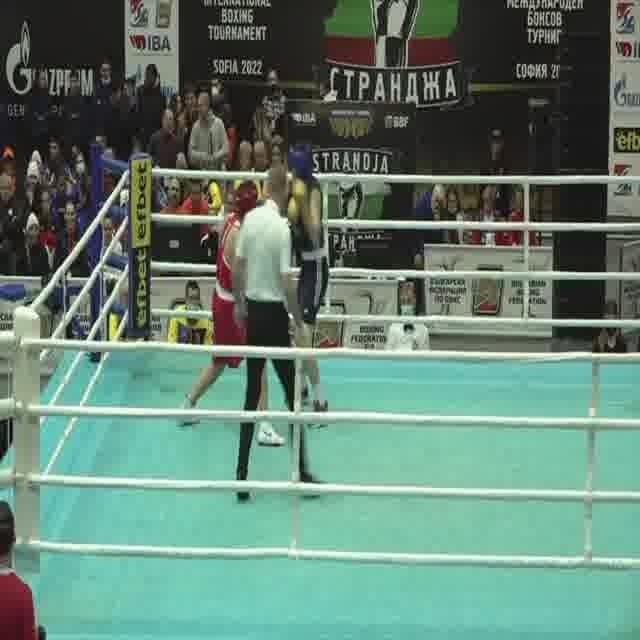blue-player: (281, 146, 330, 434)
red-player: (174, 176, 287, 449)
referee: (234, 159, 325, 510)
